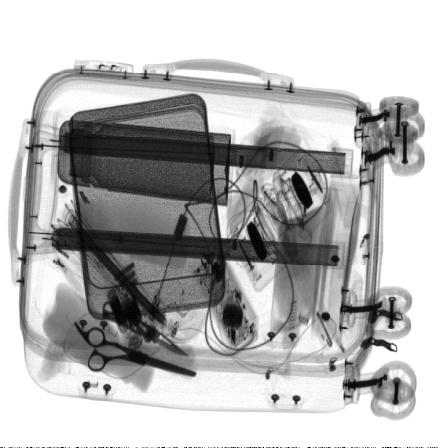Knife: (101, 300, 190, 356)
Scissors: (72, 320, 199, 380)
